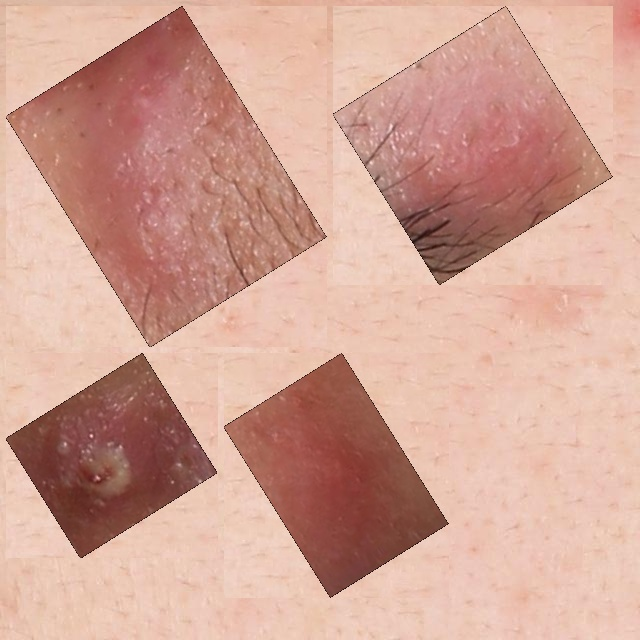nodule: (17, 17, 316, 336), (344, 17, 601, 274), (235, 364, 437, 586), (17, 364, 206, 547)
